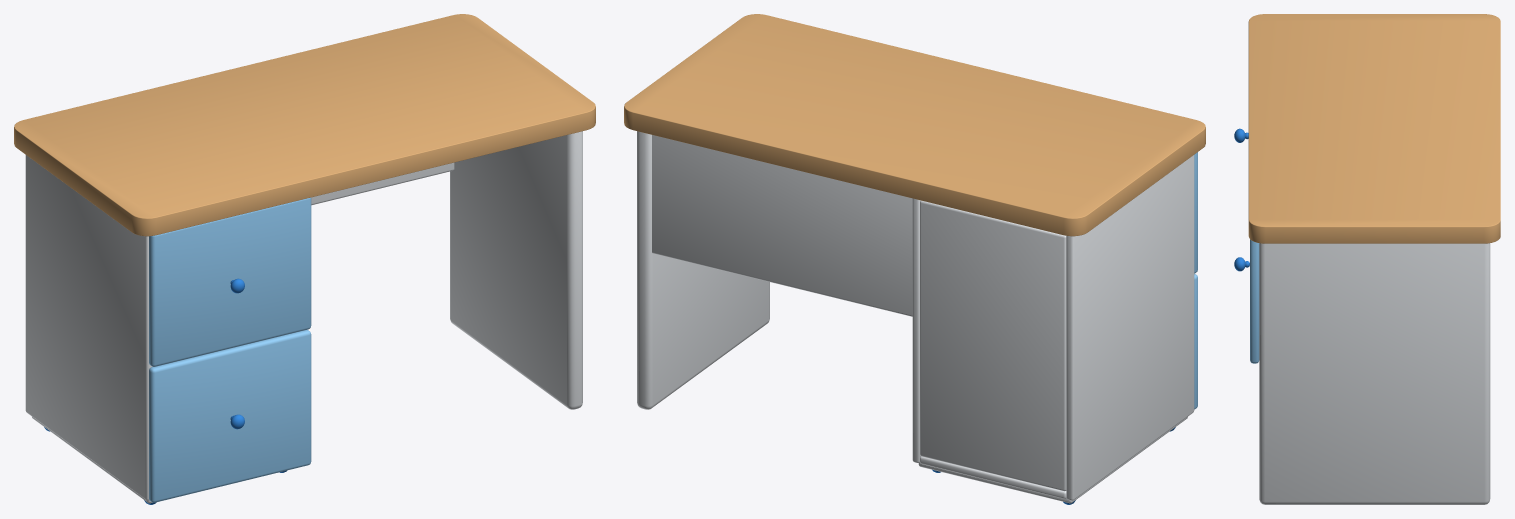
Rendered from escrivaninha_gaveteiro_azul.glb.
3 views of the same model, side by side, from view 1: azimuth 30°, elevation 25°; view 2: azimuth 150°, elevation 25°; view 3: azimuth 270°, elevation 25° (orthographic). The views are drawn at different scales.
Visible parts, largest first — view 1: escrivaninha_gaveteiro_azul, gaveta_1, gaveta_2; view 2: escrivaninha_gaveteiro_azul; view 3: escrivaninha_gaveteiro_azul, gaveta_1.
Part boxes in pixels (box(x1,y1,x2,y2)): escrivaninha_gaveteiro_azul: box(14, 14, 595, 504); gaveta_1: box(149, 330, 311, 502); gaveta_2: box(149, 197, 311, 366); escrivaninha_gaveteiro_azul: box(624, 14, 1205, 504); escrivaninha_gaveteiro_azul: box(1248, 14, 1500, 504); gaveta_1: box(1234, 239, 1259, 363).
Size of the model in its own units: 1.2 by 0.75 by 0.6346.
1 material, 1 textured.
